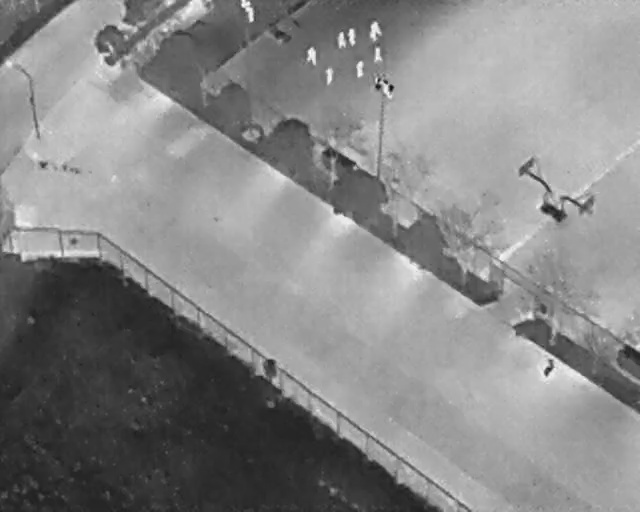Bicycle: (538, 357, 558, 379)
Person: (367, 19, 386, 39), (306, 46, 318, 66), (355, 60, 365, 79), (324, 66, 333, 85), (348, 28, 357, 47), (373, 46, 382, 62), (338, 31, 346, 49), (369, 23, 376, 41)
